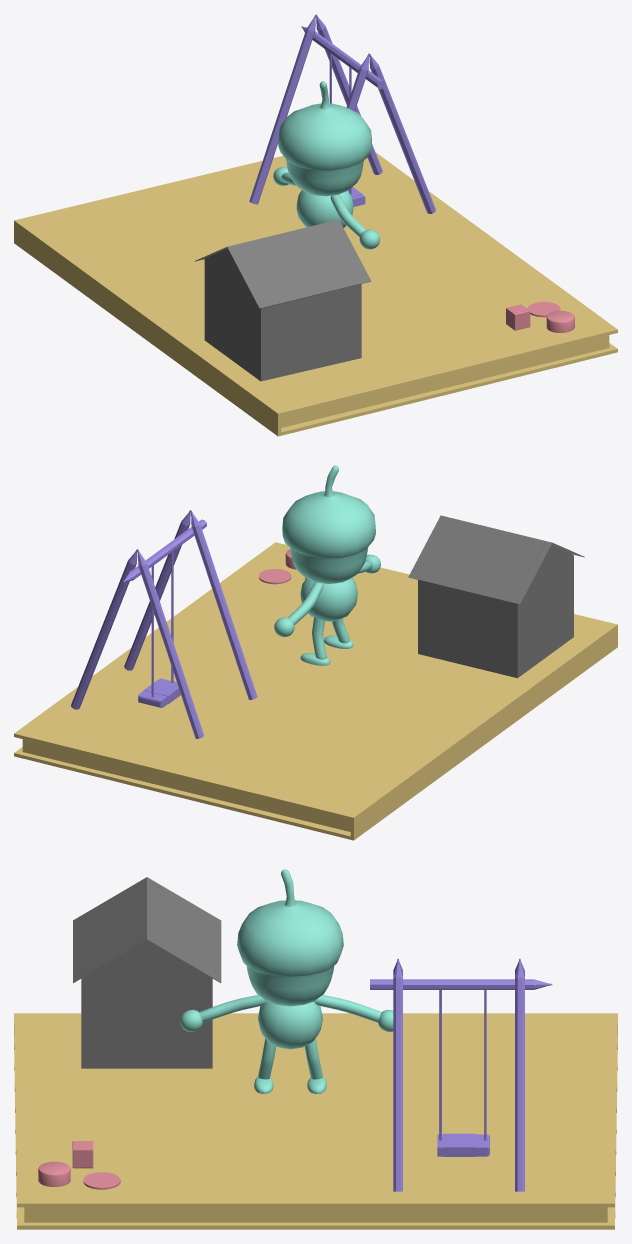
File: Acorn.fbx
3 renders of one model, top to bottom at view 1: azimuth 30°, elevation 25°; view 2: azimuth 150°, elevation 25°; view 3: azimuth 270°, elevation 25°, orthographic. The views are drawn at different scales.
Parts seen in each view (by area): view 1: Cube.002, Plane, Cube, Plane.001, Cube.005, Cube.001, Cylinder; view 2: Cube.002, Plane, Cube.005, Cube, Plane.001, Cube.001; view 3: Cube.002, Cube, Plane, Plane.001, Cube.005, Cube.001, Plane.002, Cylinder, Cube.006, Circle.
Part boxes in pixels (bbox=[...]): Cube.002: bbox=[14, 152, 617, 436]; Plane: bbox=[204, 248, 361, 381]; Cube: bbox=[278, 81, 371, 227]; Plane.001: bbox=[195, 219, 371, 308]; Cube.005: bbox=[249, 14, 435, 213]; Cube.001: bbox=[273, 167, 379, 249]; Cylinder: bbox=[546, 311, 574, 332]; Cube.002: bbox=[14, 542, 617, 840]; Plane: bbox=[418, 543, 573, 678]; Cube.005: bbox=[71, 510, 257, 738]; Cube: bbox=[282, 465, 375, 621]; Plane.001: bbox=[408, 515, 584, 604]; Cube.001: bbox=[274, 554, 380, 665]; Cube.002: bbox=[14, 1013, 617, 1229]; Cube: bbox=[237, 869, 343, 1049]; Plane: bbox=[81, 882, 212, 1068]; Plane.001: bbox=[73, 877, 221, 983]; Cube.005: bbox=[370, 958, 552, 1191]; Cube.001: bbox=[180, 995, 393, 1093]; Plane.002: bbox=[90, 992, 137, 1066]; Cylinder: bbox=[38, 1161, 70, 1186]; Cube.006: bbox=[72, 1141, 93, 1168]; Circle: bbox=[83, 1172, 120, 1189].
Bounding box in the file's own units: 74.6 × 47.7 × 100.
